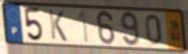0: (144, 13, 166, 47)
1: (78, 10, 90, 43)
5: (23, 6, 44, 43)
6: (96, 10, 117, 46)
9: (119, 10, 142, 48)
K: (47, 8, 69, 43)
